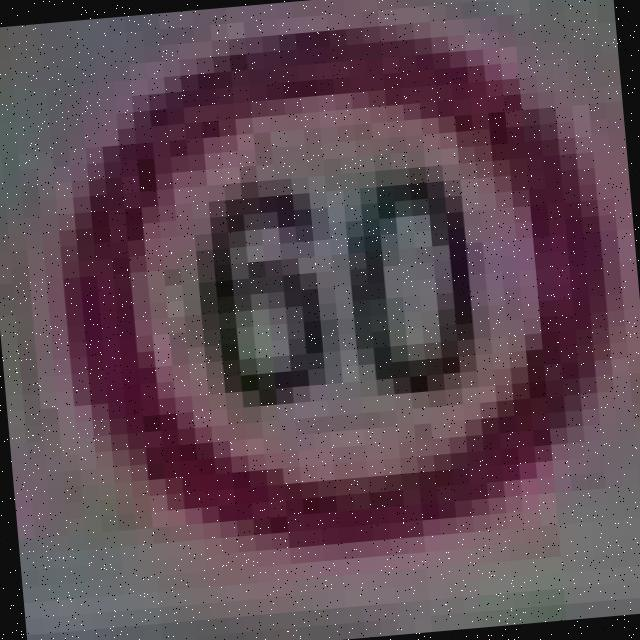Ograniczenie predkosci do 60: (25, 0, 608, 566)
